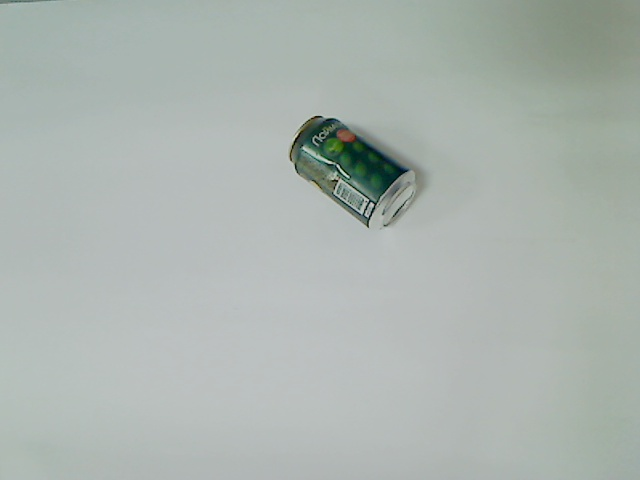can: (286, 114, 417, 230)
